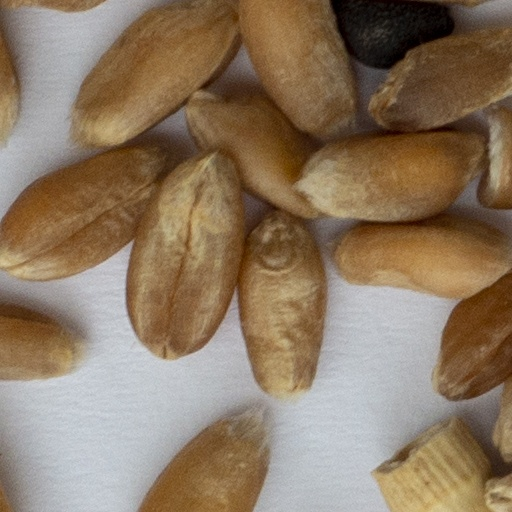Convolvulus-poly: (334, 0, 453, 67)
Peel-poly: (374, 418, 491, 511)
Wheat-grain-damaged-poly: (473, 108, 511, 207)
